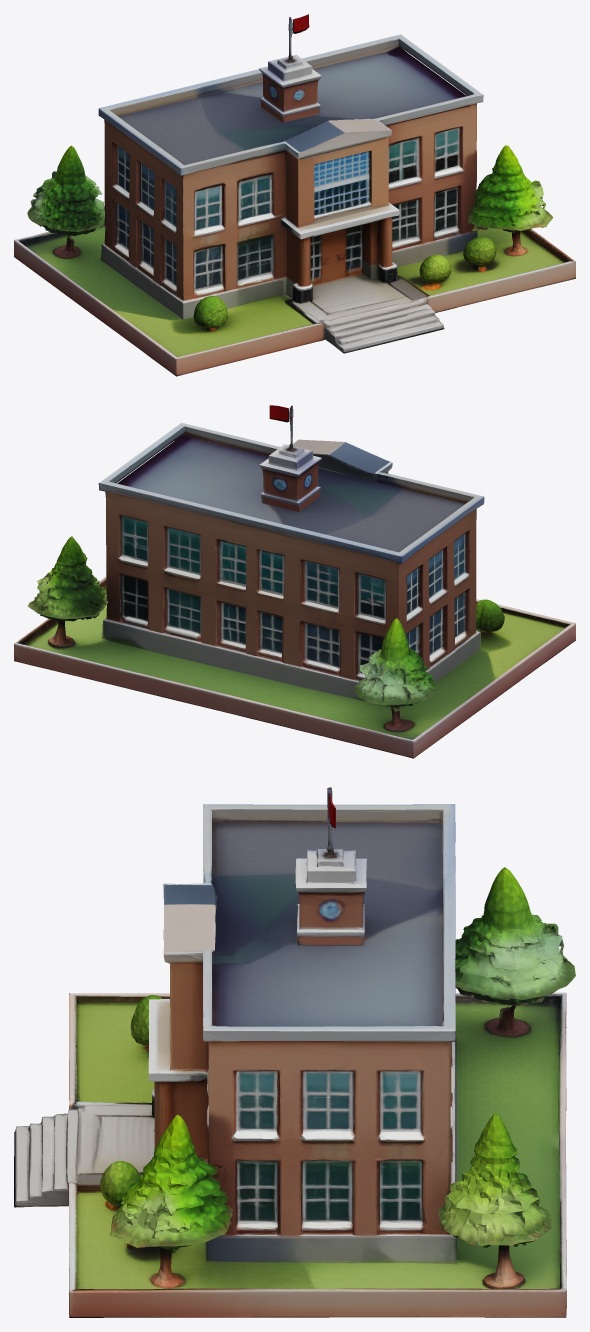
Rendered from school_2.glb.
3 renders of one model, top to bottom at view 1: azimuth 30°, elevation 25°; view 2: azimuth 150°, elevation 25°; view 3: azimuth 270°, elevation 25°, orthographic. The views are drawn at different scales.
Parts seen in each view (by area): view 1: world; view 2: world; view 3: world.
Boxes of the visible parts, left/top/right/bottom form: world: left=14, top=14, right=575, bottom=376; world: left=14, top=405, right=575, bottom=758; world: left=14, top=787, right=575, bottom=1317.
Bounding box in the file's own units: 1 × 0.5964 × 0.7944.
Materials: 1 (1 with a texture image).
